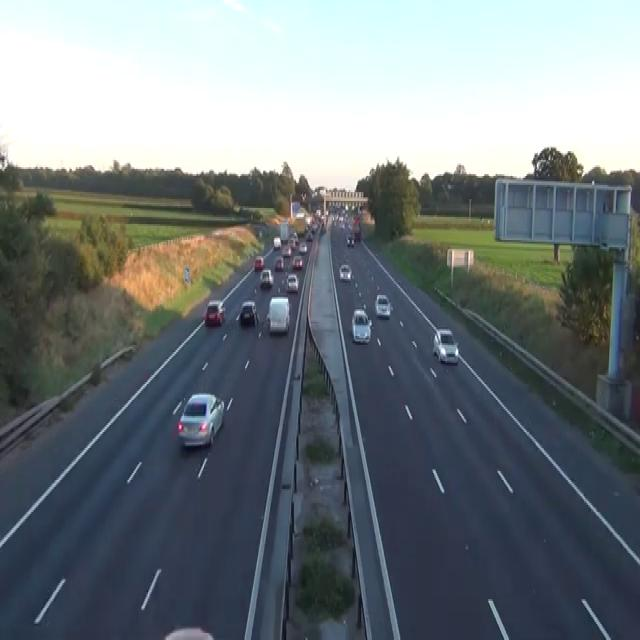Car: (177, 391, 224, 448), (432, 327, 459, 365), (266, 297, 290, 334), (351, 308, 371, 343), (163, 626, 215, 638), (204, 299, 225, 325), (240, 299, 258, 325), (374, 294, 392, 318), (259, 268, 274, 288), (285, 274, 299, 292), (339, 263, 351, 281), (253, 256, 264, 270), (292, 254, 302, 268), (274, 256, 283, 270), (346, 233, 354, 247), (273, 236, 281, 249), (282, 245, 291, 256), (296, 208, 305, 219), (354, 228, 361, 242), (292, 230, 299, 243), (288, 236, 295, 249), (305, 215, 313, 226), (299, 242, 307, 252), (311, 222, 318, 233), (305, 231, 312, 240), (338, 217, 344, 227), (321, 222, 326, 233), (332, 215, 336, 226)
Truck: (279, 220, 289, 242)
